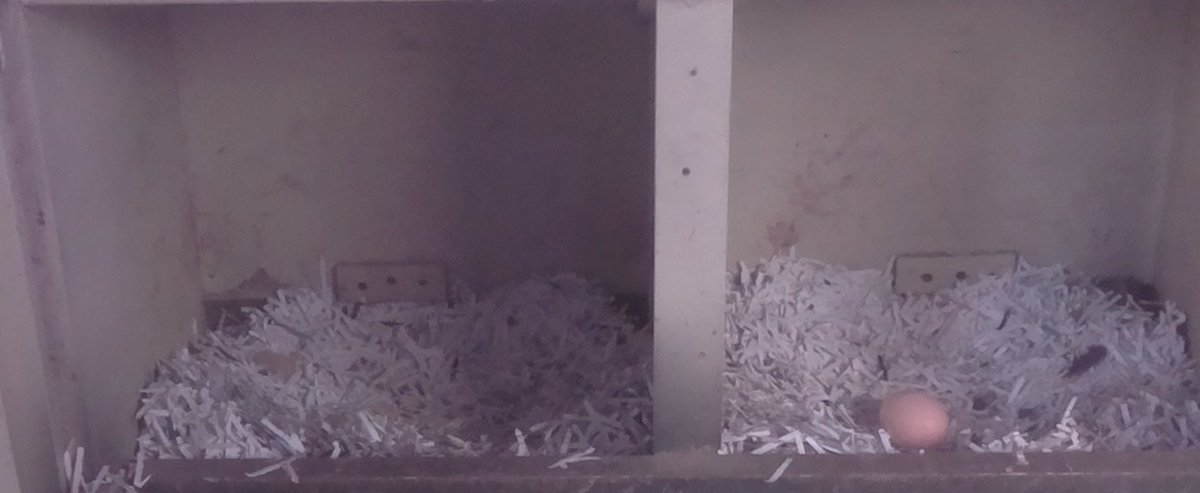egg: (871, 388, 956, 450)
